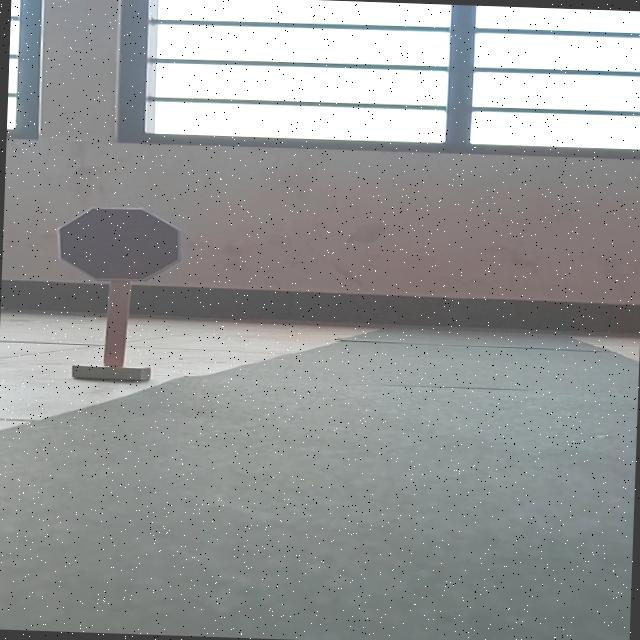Stop: (54, 204, 185, 284)
